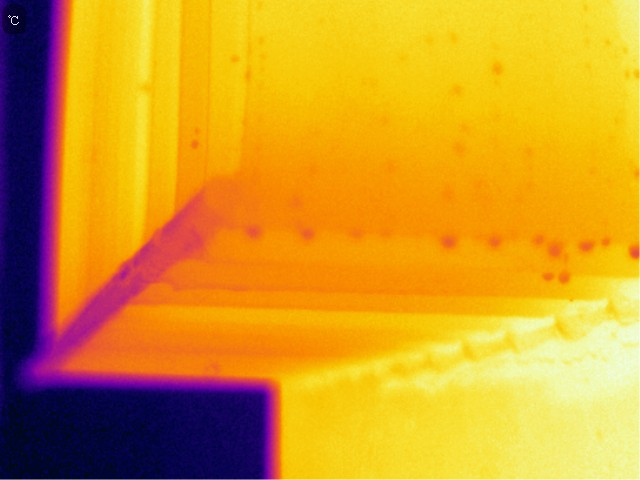Water: (531, 233, 563, 259), (234, 223, 272, 244), (537, 264, 571, 287), (430, 234, 468, 253), (581, 236, 613, 255), (295, 224, 322, 241), (623, 240, 640, 262)
